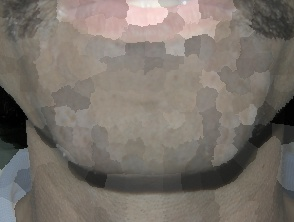vitiligo: (1, 0, 294, 191)
